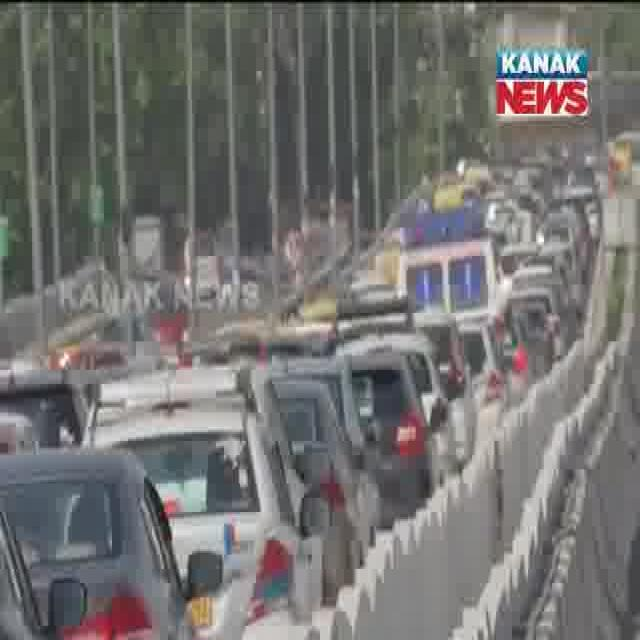ambulance: (393, 203, 504, 312)
